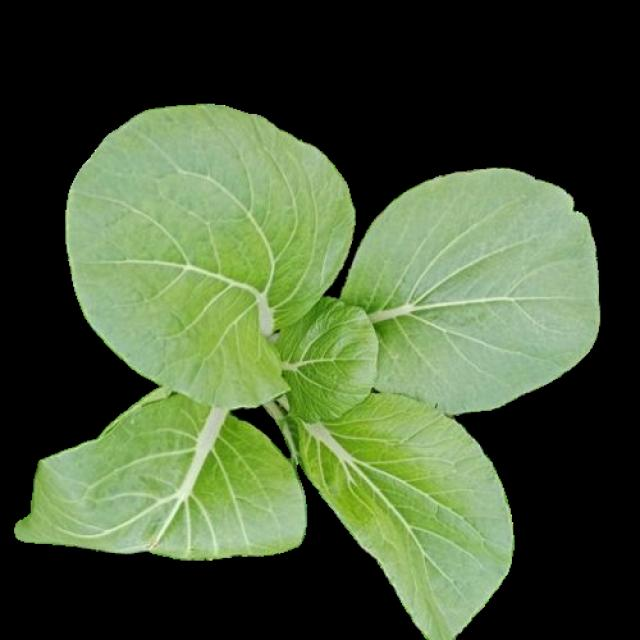healthy: (13, 110, 598, 640)
mature: (18, 110, 603, 640)
